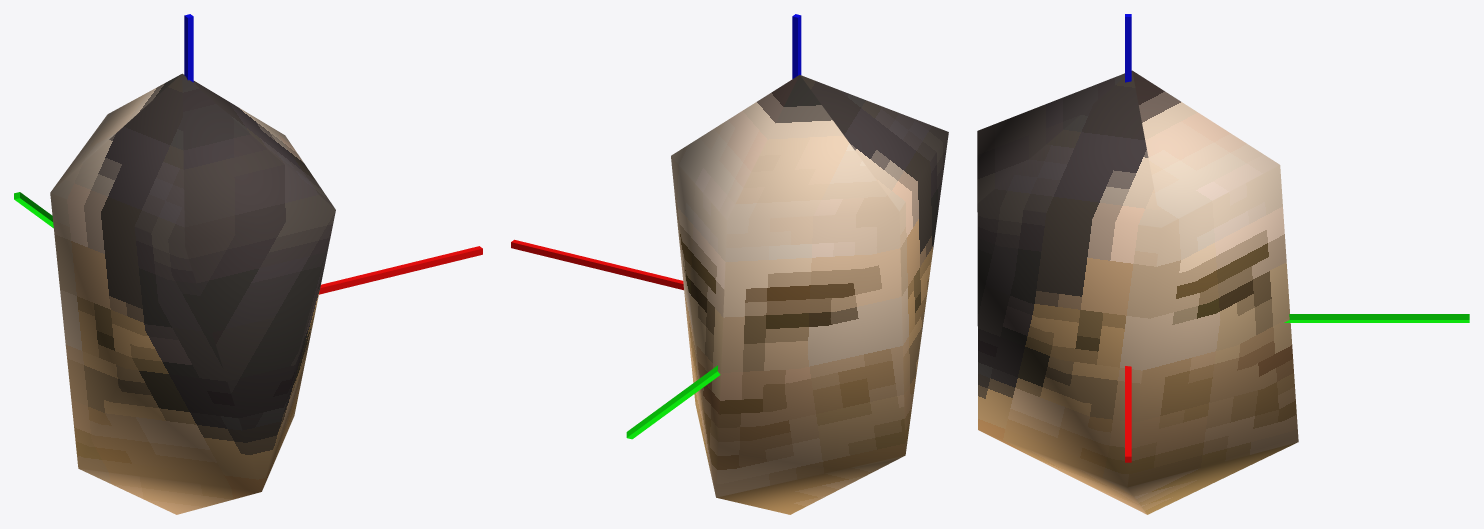
Rendered from head.glb.
The picture shows the model from 3 angles, left to right: view 1: azimuth 30°, elevation 25°; view 2: azimuth 150°, elevation 25°; view 3: azimuth 270°, elevation 25°; orthographic projection. The views are drawn at different scales.
Visible parts, largest first — view 1: infantry e spearman head standardModel, Dummy_hotspot; view 2: infantry e spearman head standardModel, Dummy_hotspot; view 3: infantry e spearman head standardModel, Dummy_hotspot.
Part boxes in pixels (x1,y1,x2,y2): infantry e spearman head standardModel: (50, 73, 335, 514); Dummy_hotspot: (14, 14, 482, 294); infantry e spearman head standardModel: (671, 75, 948, 514); Dummy_hotspot: (511, 14, 801, 439); infantry e spearman head standardModel: (977, 70, 1298, 514); Dummy_hotspot: (1125, 14, 1469, 462).
Size of the model in its own units: 0.3511 by 0.4092 by 0.3643.
2 materials, 1 textured.
